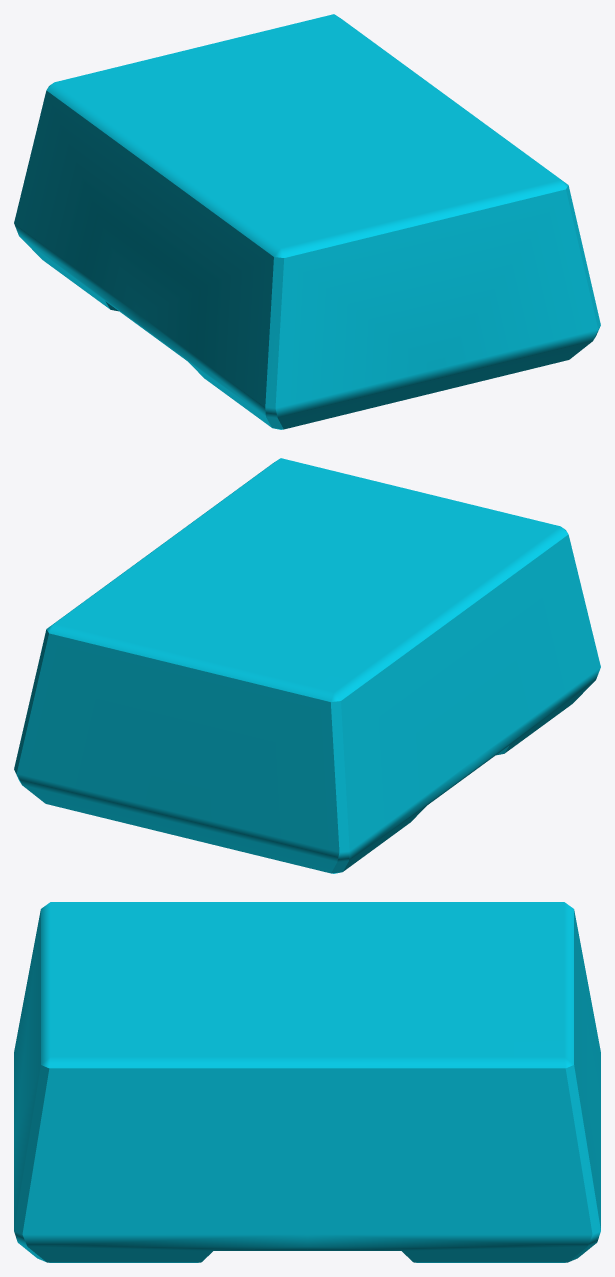
File: obj_castedpart_bar.fbx
3 views of the same model, one above another, from view 1: azimuth 30°, elevation 25°; view 2: azimuth 150°, elevation 25°; view 3: azimuth 270°, elevation 25° (orthographic). The views are drawn at different scales.
Visible parts, largest first — view 1: Cube.015; view 2: Cube.015; view 3: Cube.015.
Boxes of the visible parts, x1,y1,x2,y2 form: Cube.015: (14, 14, 600, 429); Cube.015: (14, 458, 600, 873); Cube.015: (14, 902, 600, 1262).
Bounding box in the file's own units: 5.96 × 3.09 × 7.96.
